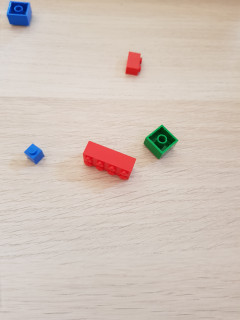1x1 blue: (24, 143, 45, 165)
1x2 red: (126, 52, 143, 75)
2x2 green: (143, 123, 178, 161)
2x4 red: (83, 141, 136, 182)
